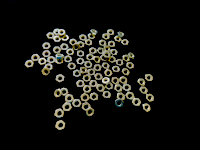nut: (55, 120, 66, 132), (54, 109, 64, 120), (72, 99, 82, 110), (62, 103, 72, 113), (41, 67, 51, 77), (56, 74, 65, 84), (90, 93, 99, 103), (82, 102, 91, 112), (143, 103, 152, 113), (115, 99, 124, 109), (125, 92, 135, 101), (102, 91, 112, 100), (119, 76, 129, 85), (42, 50, 52, 59), (47, 56, 57, 65), (84, 60, 93, 70), (104, 69, 114, 78), (76, 41, 86, 50), (112, 65, 121, 75), (76, 80, 85, 89), (65, 95, 74, 104), (132, 99, 141, 108), (146, 94, 155, 103), (117, 93, 126, 102), (115, 85, 124, 94), (111, 77, 120, 86), (80, 66, 89, 75), (47, 56, 56, 65), (114, 35, 123, 44), (93, 55, 102, 64), (122, 68, 131, 77), (55, 89, 63, 99), (42, 42, 52, 50), (86, 108, 94, 118), (82, 86, 92, 94), (72, 70, 82, 78), (97, 84, 105, 94), (94, 73, 104, 81), (76, 50, 86, 58), (25, 60, 34, 68), (38, 58, 47, 66), (31, 54, 40, 62), (81, 94, 90, 102), (61, 88, 69, 97), (146, 74, 154, 83), (138, 79, 147, 87), (139, 87, 148, 95), (126, 62, 135, 70), (123, 84, 132, 92), (83, 74, 92, 82), (90, 80, 98, 89), (105, 83, 114, 91), (102, 77, 111, 85), (88, 68, 96, 77), (45, 64, 54, 72), (56, 57, 64, 66), (53, 46, 62, 54), (53, 28, 62, 36), (60, 43, 69, 51), (76, 58, 85, 66), (93, 64, 102, 72), (102, 62, 111, 70), (77, 50, 86, 58), (79, 34, 88, 42), (121, 38, 130, 46), (99, 39, 108, 47), (89, 47, 98, 55), (103, 51, 112, 59), (116, 59, 125, 67), (122, 54, 131, 62), (87, 33, 97, 40), (85, 54, 95, 61), (55, 54, 66, 60), (47, 32, 55, 40), (69, 38, 77, 46), (73, 44, 81, 52), (118, 30, 126, 38), (64, 56, 73, 63), (61, 35, 70, 42), (66, 49, 75, 56), (85, 39, 94, 46), (98, 46, 105, 55), (110, 49, 119, 56), (108, 41, 117, 48), (107, 29, 115, 36), (68, 63, 76, 70), (58, 29, 66, 36), (53, 36, 61, 43), (90, 29, 98, 36), (103, 33, 111, 40), (100, 55, 108, 62), (129, 52, 136, 60), (109, 57, 116, 64), (105, 47, 110, 54)
